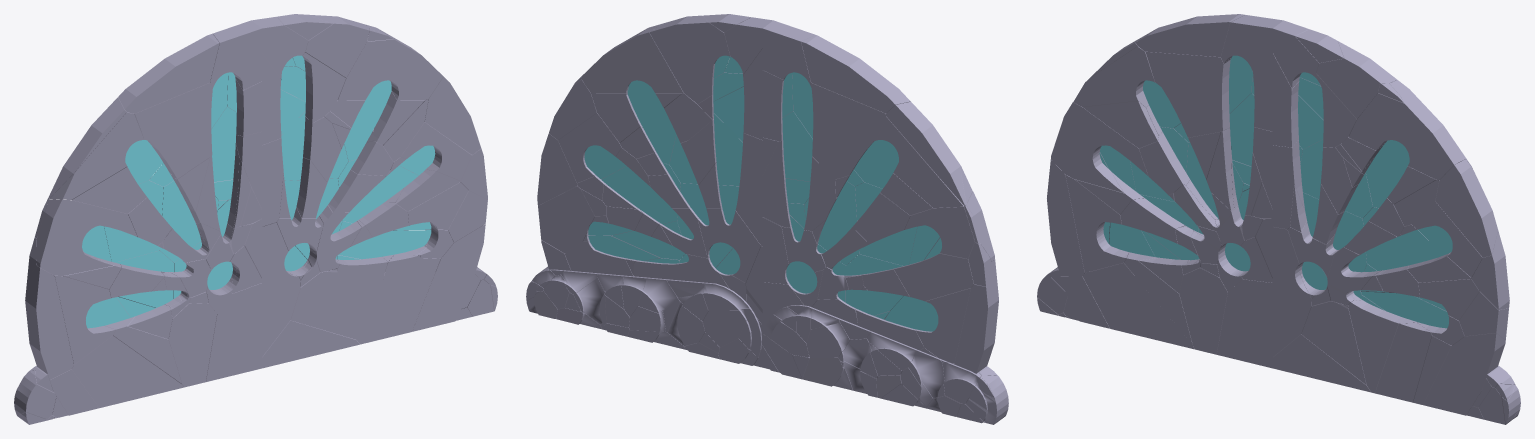
File: DoorBroken.fbx
3 views of the same model, side by side, from view 1: azimuth 30°, elevation 25°; view 2: azimuth 150°, elevation 25°; view 3: azimuth 330°, elevation 25° (orthographic).
Parts seen in each view (by area): view 1: dome.door.004_cell.027, dome.door.004_cell.039, dome.door.003_cell.010, dome.door.004_cell.010, dome.door.004_cell.029, dome.door.004_cell.005, dome.door.004_cell.031, dome.door.003_cell.025, dome.door.003_cell.012, dome.door.004_cell, dome.door.004_cell.037, dome.door.003_cell.021 (+69 smaller); view 2: dome.door.004_cell.027, dome.door.003_cell.038, dome.door.004_cell.005, dome.door.003_cell.010, dome.door.004_cell.031, dome.door.004_cell.013, dome.door.004_cell.039, dome.door.004_cell.037, dome.door.004_cell.012, dome.door.003_cell.014, dome.door.004_cell.015, dome.door.003_cell.039 (+93 smaller); view 3: dome.door.003_cell.010, dome.door.004_cell.027, dome.door.004_cell.010, dome.door.004_cell.039, dome.door.004_cell.029, dome.door.003_cell.025, dome.door.003_cell.030, dome.door.003_cell.012, dome.door.004_cell, dome.door.004_cell.009, dome.door.003_cell.038, dome.door.004_cell.005 (+74 smaller).
Part boxes in pixels (x1,y1,x2,y2): dome.door.004_cell.027: (134, 83, 212, 178); dome.door.004_cell.039: (36, 199, 137, 275); dome.door.003_cell.010: (337, 24, 443, 100); dome.door.004_cell.010: (72, 336, 183, 407); dome.door.004_cell.029: (206, 283, 262, 381); dome.door.004_cell.005: (118, 33, 219, 113); dome.door.004_cell.031: (25, 265, 73, 379); dome.door.003_cell.025: (412, 224, 485, 331); dome.door.003_cell.012: (262, 222, 300, 356); dome.door.004_cell: (164, 296, 216, 387); dome.door.004_cell.037: (49, 112, 144, 199); dome.door.003_cell.021: (364, 255, 420, 343); dome.door.004_cell.027: (810, 82, 885, 179); dome.door.003_cell.038: (649, 15, 730, 103); dome.door.004_cell.005: (801, 35, 910, 113); dome.door.003_cell.010: (581, 27, 683, 93); dome.door.004_cell.031: (954, 259, 998, 373); dome.door.004_cell.013: (886, 101, 966, 205); dome.door.004_cell.039: (904, 191, 994, 261); dome.door.004_cell.037: (877, 116, 972, 207); dome.door.004_cell.012: (894, 253, 973, 301); dome.door.003_cell.014: (538, 185, 594, 253); dome.door.004_cell.015: (762, 20, 815, 83); dome.door.003_cell.039: (735, 133, 762, 245); dome.door.003_cell.010: (1348, 80, 1465, 179); dome.door.004_cell.027: (1145, 51, 1231, 137); dome.door.004_cell.010: (1082, 263, 1194, 349); dome.door.004_cell.039: (1051, 102, 1147, 192); dome.door.004_cell.029: (1216, 279, 1272, 368); dome.door.003_cell.025: (1423, 333, 1505, 415); dome.door.003_cell.030: (1435, 159, 1497, 257); dome.door.003_cell.012: (1272, 227, 1311, 356); dome.door.004_cell: (1179, 259, 1227, 354); dome.door.004_cell.009: (1065, 175, 1128, 272); dome.door.003_cell.038: (1316, 41, 1397, 119); dome.door.004_cell.005: (1135, 14, 1244, 56).
Size of the model in its own units: 500 by 344 by 24.41.
